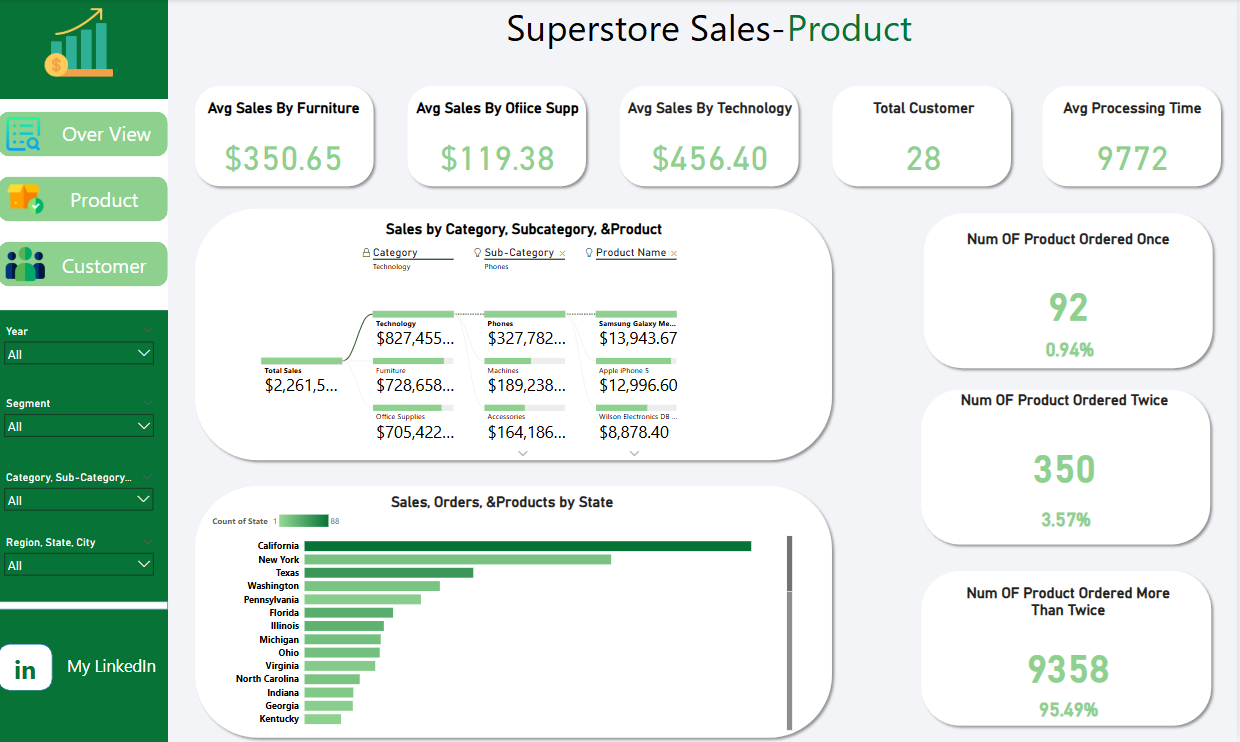

The dashboard page shown, as its layout file describes it:
{"tool":"powerbi","page":{"name":"Product","canvas":[2000,1200],"ordinal":1},"visuals":[{"type":"shape","box":[0,0,274.4,1200.7],"z":0},{"type":"image","box":[0,10.7,261.6,120.1],"z":1000},{"type":"shape","box":[0,160.8,274.4,340.9],"z":2000},{"type":"shape","box":[0,182.2,274.4,72.9],"z":3000},{"type":"shape","box":[0,287.3,274.4,72.9],"z":4000},{"type":"shape","box":[0,392.4,274.4,72.9],"z":5000},{"type":"image","box":[0,289.5,87.9,68.6],"z":6000},{"type":"image","box":[0,186.5,81.5,64.3],"z":7000},{"type":"image","box":[2.1,392.4,83.6,72.9],"z":8000},{"type":"actionButton","box":[81.5,182.2,188.7,68.6],"z":9000},{"type":"actionButton","box":[72.9,289.5,197.3,68.6],"z":10000},{"type":"actionButton","box":[72.9,394.5,197.3,68.6],"z":11000},{"type":"slicer","fields":{"Values":["Dim-Date.Year"]},"box":[0,521,261.6,79.3],"z":12000},{"type":"slicer","fields":{"Values":["Dim-Customer.Segment"]},"box":[0,636.8,261.6,79.3],"z":13000},{"type":"slicer","fields":{"Values":["Dim-Product.Category","Dim-Product.Sub-Category","Dim-Product.Product Name"]},"box":[0,756.1,260.7,85.1],"z":14000},{"type":"slicer","fields":{"Values":["Dim Location.Region","Dim Location.State","Dim Location.City"]},"box":[0,861.9,261.6,94.3],"z":15000},{"type":"shape","box":[0,973.4,274.4,12.9],"z":16000},{"type":"shape","box":[308.7,130.8,306.6,180],"z":17000},{"type":"shape","box":[651.8,130.8,306.6,180.1],"z":18000},{"type":"shape","box":[994.9,130.8,306.6,180.1],"z":19000},{"type":"shape","box":[1337.9,130.8,306.6,180.1],"z":20000},{"type":"shape","box":[1676.7,130.8,306.6,180.1],"z":21000},{"type":"card","title":"Avg Sales By Furniture","fields":{"Values":["Measures (2).Avg Sales by Furniture"]},"box":[323.8,160.8,276.6,150.1],"z":22000},{"type":"card","title":"Avg Sales By Ofiice Supp","fields":{"Values":["Measures (2).Avg Sales by Offic Supplies"]},"box":[666.8,160.8,276.6,150.1],"z":23000},{"type":"card","title":"Avg Sales By Technology","fields":{"Values":["Measures (2).Avg Sales by Technology"]},"box":[1009.9,160.8,276.6,150.1],"z":24000},{"type":"card","title":"Total Customer","fields":{"Values":["Measures (2).Orders from One-Time Customers by Product"]},"box":[1355.1,160.8,276.6,150.1],"z":25000},{"type":"card","title":"Avg Processing Time","fields":{"Values":["Measures (2).Orders from Repeat Customers by Product"]},"box":[1691.7,160.8,276.6,150.1],"z":26000},{"type":"shape","box":[308.7,328,1046.3,424.5],"z":27000},{"type":"decompositionTreeVisual","title":"Sales by Category, Subcategory, &Product","fields":{"ExplainBy":["Dim-Product.Category","Dim-Product.Sub-Category","Dim-Product.Product Name"],"Analyze":["Measures (2).Total Sales"]},"box":[394.5,358.1,906.9,390.2],"z":28000},{"type":"shape","box":[1485.9,337.5,484.6,268],"z":29000},{"type":"shape","box":[308.7,776.2,1046.3,424.5],"z":30000},{"type":"shape","box":[1481.6,621.8,484.6,268],"z":31000},{"type":"shape","box":[1481.6,913.4,486.7,268],"z":32000},{"type":"card","title":"Num OF Product Ordered Once","fields":{"Values":["Measures (2).OrderedOnceCount"]},"box":[1550.2,373.9,355.9,205.8],"z":33000},{"type":"card","fields":{"Values":["Measures (2).%OrderedOnce"]},"box":[1644.5,521.9,171.5,83.6],"z":34000},{"type":"card","title":"Num OF Product Ordered Twice","fields":{"Values":["Measures (2).OrderedTwiceCount"]},"box":[1543.3,634.2,355.9,205.8],"z":35000},{"type":"card","fields":{"Values":["Measures (2).%OrderedTwice"]},"box":[1637.7,801.5,171.5,75],"z":36000},{"type":"barChart","title":"Sales, Orders, &Products by State","fields":{"Category":["Dim Location.State","Dim-Product.Category","Dim-Product.Product Name"],"Y":["Measures (2).Total Sales"]},"box":[340.9,797.6,945.5,388.1],"z":37000},{"type":"card","title":"Num OF Product Ordered More Than Twice","fields":{"Values":["Measures (2).OrderedMoreThanTwiceCount"]},"box":[1548.5,943.8,355.9,203.7],"z":38000},{"type":"card","fields":{"Values":["Measures (2).%OrderedMoreThanTwice"]},"box":[1642.8,1106.8,171.5,75],"z":39000},{"type":"shape","box":[0,1042,87.9,75],"z":40000},{"type":"actionButton","box":[6.4,1031.3,75,100.8],"z":41000},{"type":"actionButton","box":[87.9,1042,188.7,68.6],"z":42000},{"type":"textbox","box":[718.2,0,859.5,100.9],"z":43000}]}

Visuals, with their boxes in screenshot pixels (x1, y1, x2, y2), scaled from the page's 2000x1200 canvas onto the 1240x742 screenshot:
shape: (0, 0, 170, 741)
image: (0, 7, 162, 81)
shape: (0, 99, 170, 310)
shape: (0, 113, 170, 158)
shape: (0, 178, 170, 223)
shape: (0, 243, 170, 288)
image: (0, 179, 54, 221)
image: (0, 115, 51, 155)
image: (1, 243, 53, 288)
actionButton: (51, 113, 168, 155)
actionButton: (45, 179, 168, 221)
actionButton: (45, 244, 168, 286)
slicer - Dim-Date.Year: (0, 322, 162, 371)
slicer - Dim-Customer.Segment: (0, 394, 162, 443)
slicer - Dim-Product.Category x Dim-Product.Sub-Category: (0, 468, 162, 520)
slicer - Dim Location.Region x Dim Location.State: (0, 533, 162, 591)
shape: (0, 602, 170, 610)
shape: (191, 81, 381, 192)
shape: (404, 81, 594, 192)
shape: (617, 81, 807, 192)
shape: (829, 81, 1020, 192)
shape: (1040, 81, 1230, 192)
"Avg Sales By Furniture" card: (201, 99, 372, 192)
"Avg Sales By Ofiice Supp" card: (413, 99, 585, 192)
"Avg Sales By Technology" card: (626, 99, 798, 192)
"Total Customer" card: (840, 99, 1012, 192)
"Avg Processing Time" card: (1049, 99, 1220, 192)
shape: (191, 203, 840, 465)
"Sales by Category, Subcategory, &Product" decompositionTreeVisual: (245, 221, 807, 463)
shape: (921, 209, 1222, 374)
shape: (191, 480, 840, 741)
shape: (919, 384, 1219, 550)
shape: (919, 565, 1220, 730)
"Num OF Product Ordered Once" card: (961, 231, 1182, 358)
card - Measures (2).%OrderedOnce: (1020, 323, 1126, 374)
"Num OF Product Ordered Twice" card: (957, 392, 1178, 519)
card - Measures (2).%OrderedTwice: (1015, 496, 1122, 542)
"Sales, Orders, &Products by State" barChart: (211, 493, 798, 733)
"Num OF Product Ordered More Than Twice" card: (960, 584, 1181, 710)
card - Measures (2).%OrderedMoreThanTwice: (1019, 684, 1125, 731)
shape: (0, 644, 54, 691)
actionButton: (4, 638, 50, 700)
actionButton: (54, 644, 171, 687)
textbox: (445, 0, 978, 62)
